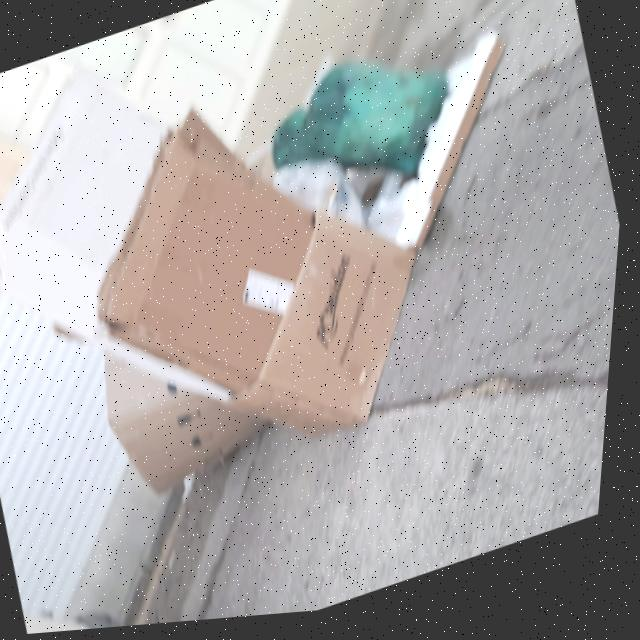Other: (1, 1, 478, 548), (233, 10, 551, 298)
